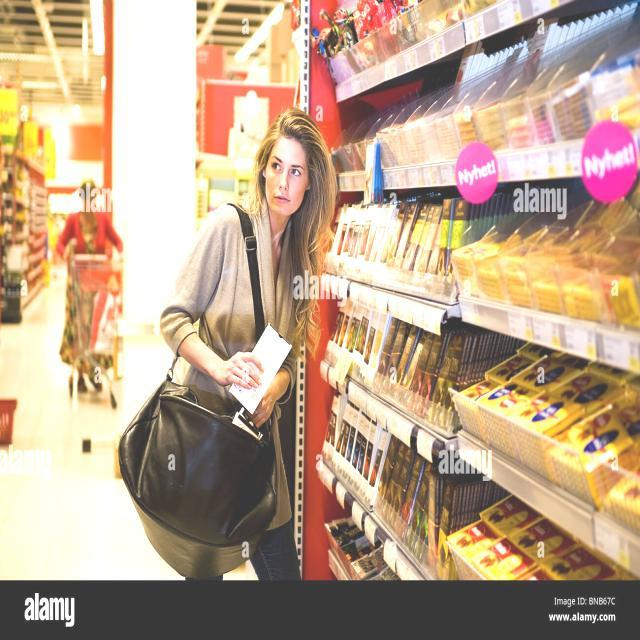shoplifting: (163, 100, 355, 585)
